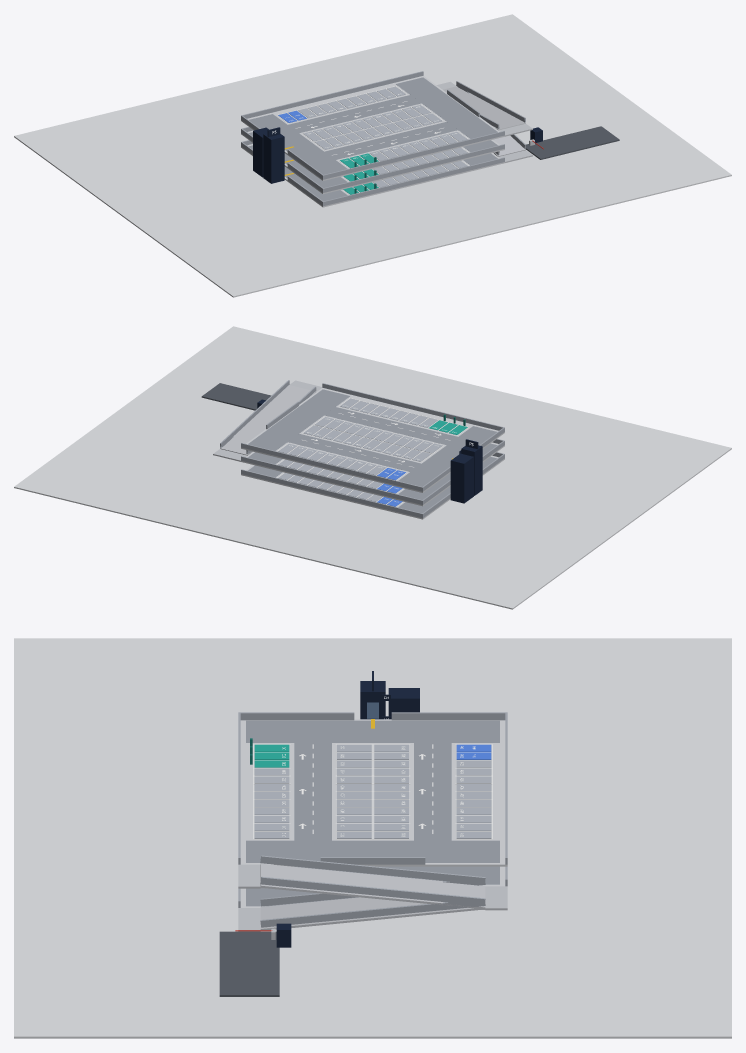
File: parking_p5.glb
3 renders of one model, top to bottom at view 1: azimuth 30°, elevation 25°; view 2: azimuth 150°, elevation 25°; view 3: azimuth 270°, elevation 25°, orthographic. The views are drawn at different scales.
Visible parts, largest first — view 1: P5_site_sol, P5_N2_voie, P5_N2_dalle, P5_N2_gardecorps, P5_N1_gardecorps, P5_site_noyau, P5_site_asphalte, P5_N0_gardecorps, P5_N2_peinture, P5_N1_beton, P5_N0_voie, P5_N1_voie (+3 smaller); view 2: P5_site_sol, P5_N2_voie, P5_N2_dalle, P5_N2_gardecorps, P5_N1_gardecorps, P5_N1_beton, P5_site_noyau, P5_N0_gardecorps, P5_N2_peinture, P5_site_asphalte, P5_N1_voie, P5_N0_voie (+2 smaller); view 3: P5_site_sol, P5_N2_voie, P5_N2_dalle, P5_N1_beton, P5_site_asphalte, P5_N2_gardecorps, P5_N1_gardecorps, P5_N2_peinture, P5_N0_beton, P5_N0_gardecorps, P5_site_noyau, P5_N1_voie (+1 smaller).
Part boxes in pixels (x1,y1,x2,y2): P5_site_sol: [14, 14, 731, 297]; P5_N2_voie: [249, 77, 497, 174]; P5_N2_dalle: [241, 76, 504, 180]; P5_N2_gardecorps: [241, 71, 504, 179]; P5_N1_gardecorps: [241, 81, 525, 192]; P5_site_noyau: [253, 127, 542, 183]; P5_site_asphalte: [525, 126, 619, 159]; P5_N0_gardecorps: [241, 82, 525, 206]; P5_N2_peinture: [277, 86, 468, 168]; P5_N1_beton: [436, 81, 525, 130]; P5_N0_voie: [249, 145, 497, 201]; P5_N1_voie: [249, 132, 497, 187]; P5_site_sol: [14, 326, 731, 609]; P5_N2_voie: [248, 389, 496, 486]; P5_N2_dalle: [241, 388, 504, 492]; P5_N2_gardecorps: [241, 383, 504, 491]; P5_N1_gardecorps: [220, 380, 504, 504]; P5_N1_beton: [213, 385, 315, 461]; P5_site_noyau: [257, 399, 482, 503]; P5_N0_gardecorps: [220, 436, 504, 518]; P5_N2_peinture: [277, 398, 468, 480]; P5_site_asphalte: [201, 383, 271, 410]; P5_N1_voie: [248, 443, 496, 499]; P5_N0_voie: [248, 457, 496, 513]; P5_site_sol: [14, 638, 731, 1038]; P5_N2_voie: [246, 720, 499, 862]; P5_N2_dalle: [240, 719, 507, 866]; P5_N1_beton: [260, 863, 507, 910]; P5_site_asphalte: [219, 931, 279, 996]; P5_N2_gardecorps: [238, 712, 507, 864]; P5_N1_gardecorps: [260, 855, 507, 905]; P5_N2_peinture: [253, 744, 492, 839]; P5_N0_beton: [238, 897, 485, 931]; P5_N0_gardecorps: [238, 878, 485, 927]; P5_site_noyau: [276, 681, 419, 947]; P5_N1_voie: [294, 866, 499, 884].
Bounding box in the file's own units: 126 × 12.52 × 96.
